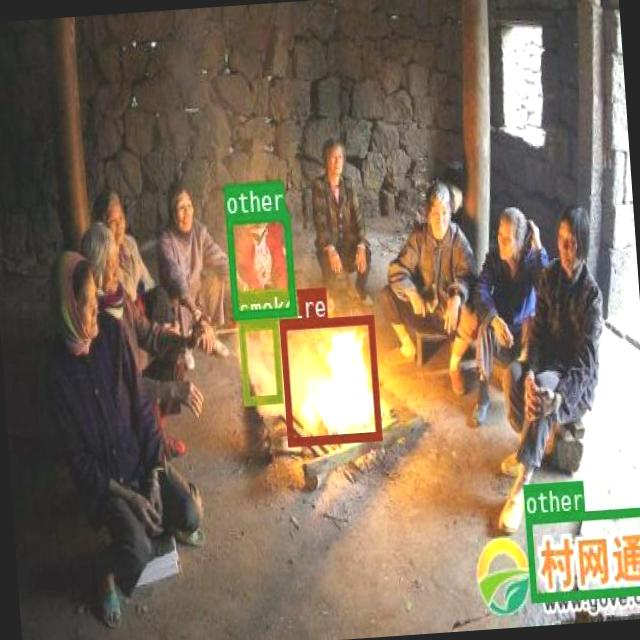fire: (278, 313, 379, 444)
smoke: (237, 319, 282, 404)
